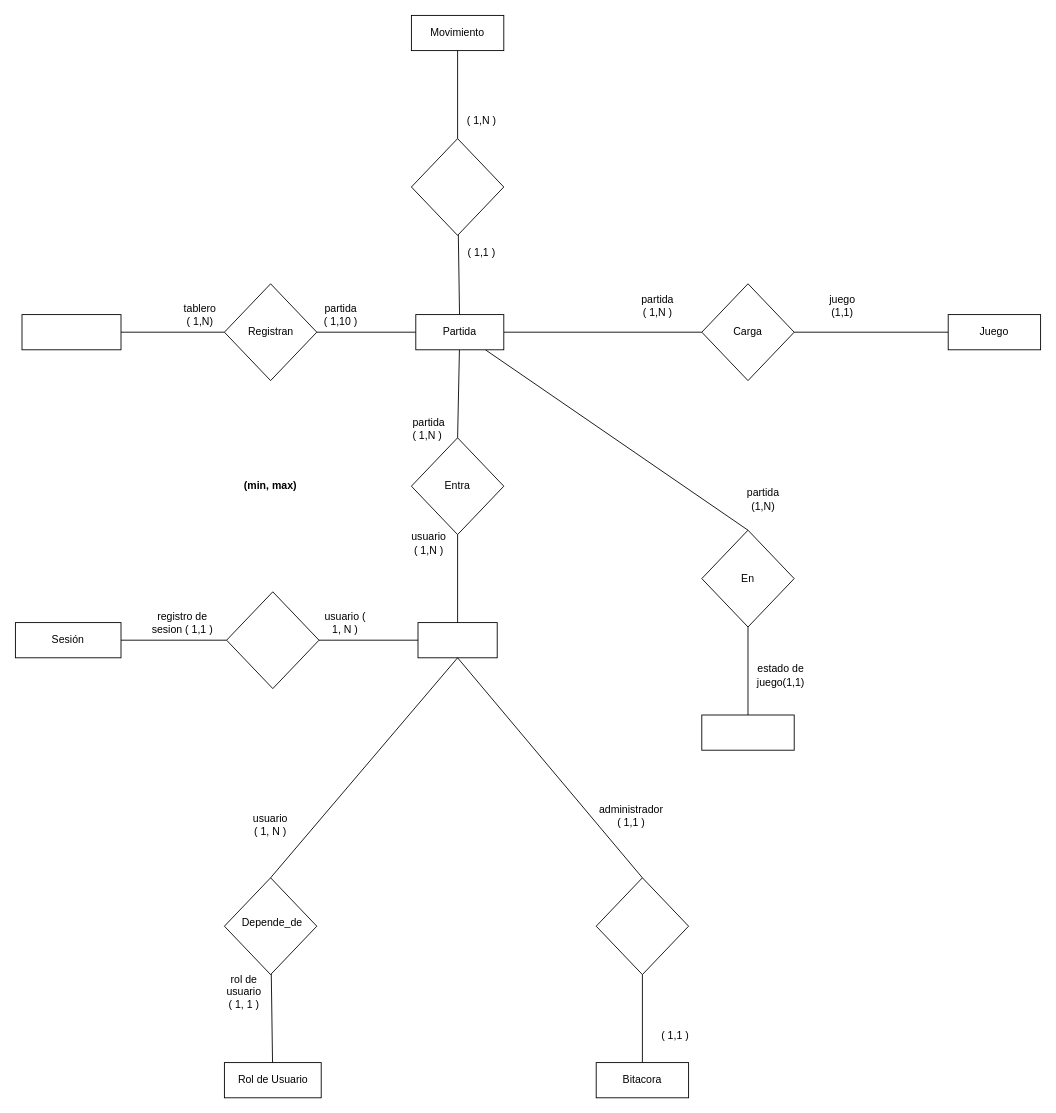
The diagram is 1056 pixels wide and 1113 high, and some of its shapes have lost their labels. Each missing label, with the box of its shape:
Esta_En: (411, 138, 504, 235)
Estado de Juego: (701, 714, 794, 750)
Guarda: (595, 877, 689, 975)
Inicia: (226, 591, 319, 689)
Tablero Personal: (21, 314, 121, 350)
Usuario: (417, 622, 497, 658)
